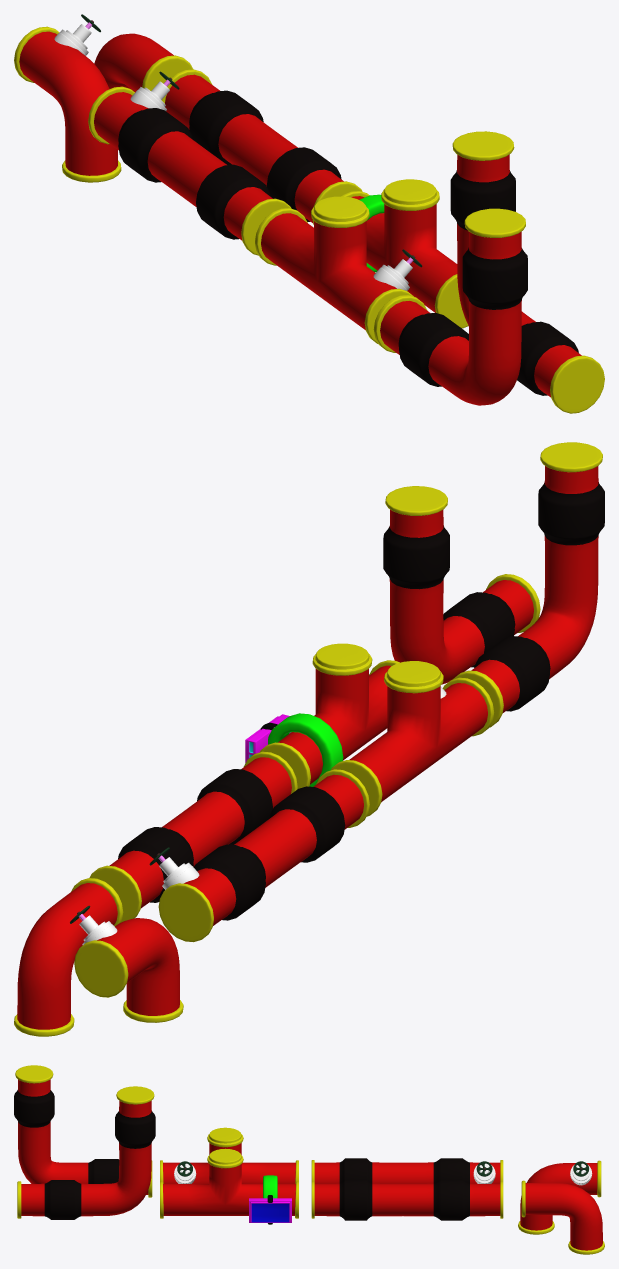
File: Modular_Pipes.fbx
3 views of the same model, one above another, from view 1: azimuth 30°, elevation 25°; view 2: azimuth 150°, elevation 25°; view 3: azimuth 270°, elevation 25° (orthographic). The views are drawn at different scales.
Visible parts, largest first — view 1: Left_Bend_Pipe, Straight_Pipe_Valve, Intersection_Pipe_Valve, Right_Bend_Pipe, Straight_Pipe, Intersection_Pipe_Device, Right_Small_Bend_Pipe_Valve, Left_Small_Bend_Pipe; view 2: Left_Bend_Pipe, Right_Bend_Pipe, Straight_Pipe_Valve, Straight_Pipe, Intersection_Pipe_Valve, Intersection_Pipe_Device, Right_Small_Bend_Pipe_Valve, Left_Small_Bend_Pipe; view 3: Right_Bend_Pipe, Straight_Pipe, Intersection_Pipe_Device, Left_Bend_Pipe, Straight_Pipe_Valve, Left_Small_Bend_Pipe, Intersection_Pipe_Valve, Right_Small_Bend_Pipe_Valve.
Part boxes in pixels (left/top/right/bottom): Left_Bend_Pipe: left=373, top=208, right=527, bottom=405; Straight_Pipe_Valve: left=88, top=71, right=291, bottom=255; Intersection_Pipe_Valve: left=255, top=196, right=422, bottom=343; Right_Bend_Pipe: left=450, top=131, right=604, bottom=413; Straight_Pipe: left=161, top=69, right=362, bottom=224; Intersection_Pipe_Device: left=341, top=179, right=468, bottom=328; Right_Small_Bend_Pipe_Valve: left=14, top=14, right=121, bottom=182; Left_Small_Bend_Pipe: left=94, top=33, right=192, bottom=92; Left_Bend_Pipe: left=453, top=442, right=604, bottom=727; Right_Bend_Pipe: left=383, top=486, right=540, bottom=684; Straight_Pipe_Valve: left=149, top=769, right=369, bottom=942; Straight_Pipe: left=89, top=751, right=297, bottom=922; Intersection_Pipe_Valve: left=331, top=661, right=494, bottom=816; Intersection_Pipe_Device: left=245, top=643, right=399, bottom=789; Right_Small_Bend_Pipe_Valve: left=70, top=905, right=183, bottom=1022; Left_Small_Bend_Pipe: left=14, top=878, right=123, bottom=1036; Right_Bend_Pipe: left=17, top=1086, right=155, bottom=1219; Straight_Pipe: left=311, top=1179, right=503, bottom=1220; Intersection_Pipe_Device: left=160, top=1148, right=298, bottom=1224; Left_Bend_Pipe: left=14, top=1065, right=152, bottom=1197; Straight_Pipe_Valve: left=311, top=1158, right=503, bottom=1183; Left_Small_Bend_Pipe: left=521, top=1180, right=604, bottom=1254; Intersection_Pipe_Valve: left=160, top=1127, right=298, bottom=1183; Right_Small_Bend_Pipe_Valve: left=518, top=1160, right=601, bottom=1234.
Size of the model in its own units: 48.61 by 80.8 by 282.
